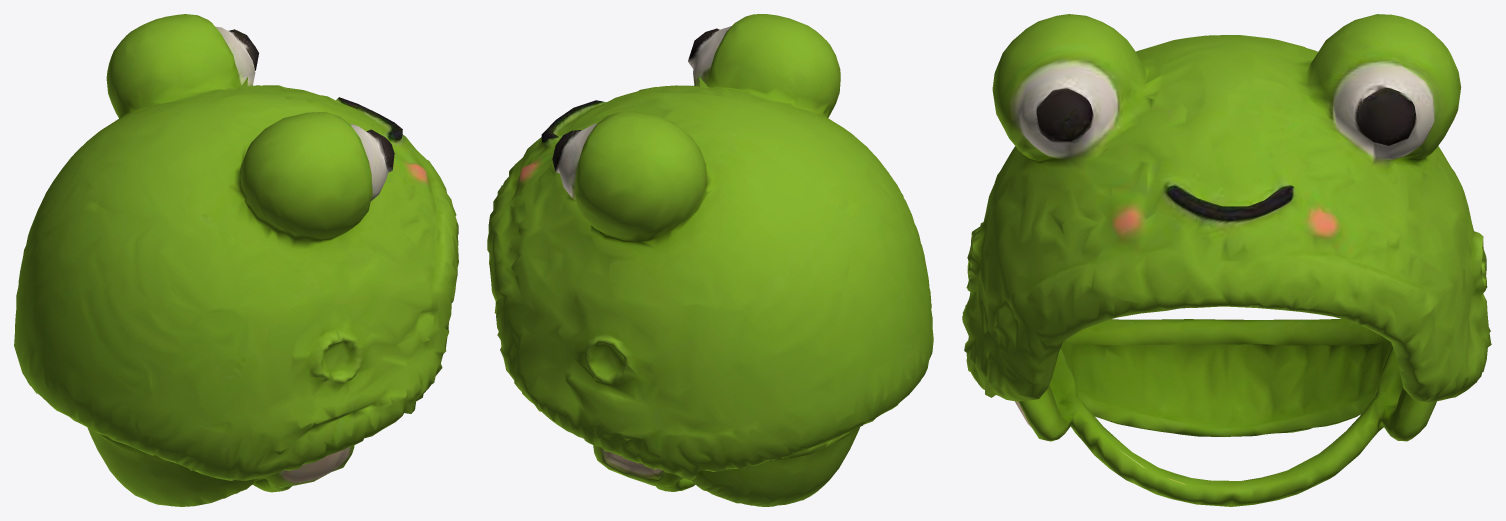
The model's file is hat_frog.glb.
3 renders of one model, left to right at view 1: azimuth 30°, elevation 25°; view 2: azimuth 150°, elevation 25°; view 3: azimuth 270°, elevation 25°, orthographic. The views are drawn at different scales.
Parts seen in each view (by area): view 1: tripo_node_decfbf22-b2e5-4d96-bc41-aaf140f4b28d; view 2: tripo_node_decfbf22-b2e5-4d96-bc41-aaf140f4b28d; view 3: tripo_node_decfbf22-b2e5-4d96-bc41-aaf140f4b28d.
Part boxes in pixels (x1,y1,x2,y2): tripo_node_decfbf22-b2e5-4d96-bc41-aaf140f4b28d: (14, 14, 458, 506); tripo_node_decfbf22-b2e5-4d96-bc41-aaf140f4b28d: (487, 14, 933, 506); tripo_node_decfbf22-b2e5-4d96-bc41-aaf140f4b28d: (962, 14, 1491, 506).
Size of the model in its own units: 0.9889 by 0.9998 by 1.
1 material, 1 textured.
